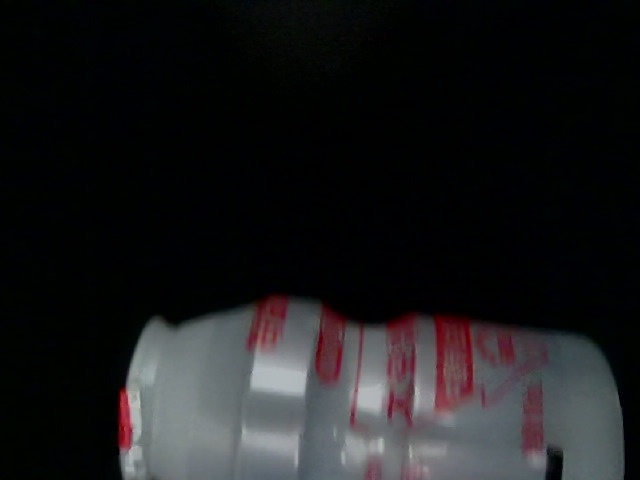CYLJ: (334, 11, 439, 108)
